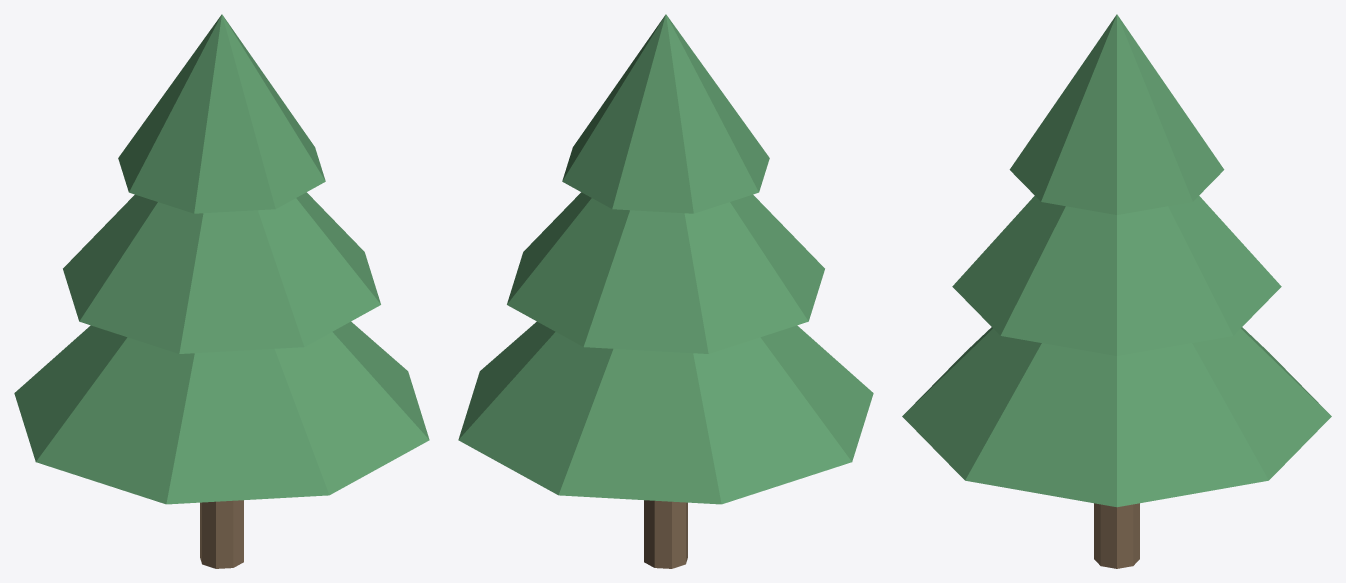
File: tree.glb
3 renders of one model, left to right at view 1: azimuth 30°, elevation 25°; view 2: azimuth 150°, elevation 25°; view 3: azimuth 270°, elevation 25°, orthographic.
Visible parts, largest first — view 1: Tier1, Tier2, Tier3, Trunk; view 2: Tier1, Tier2, Tier3, Trunk; view 3: Tier1, Tier2, Tier3, Trunk.
Boxes of the visible parts, x1,y1,x2,y2 form: Tier1: [14, 321, 429, 504]; Tier2: [63, 192, 380, 353]; Tier3: [118, 14, 325, 213]; Trunk: [200, 500, 243, 568]; Tier1: [458, 321, 873, 504]; Tier2: [507, 192, 824, 353]; Tier3: [562, 14, 769, 213]; Trunk: [644, 500, 687, 568]; Tier1: [902, 327, 1331, 507]; Tier2: [952, 196, 1281, 356]; Tier3: [1009, 14, 1224, 214]; Trunk: [1094, 503, 1139, 568].
Bounding box in the file's own units: 3 × 4.2 × 3.
